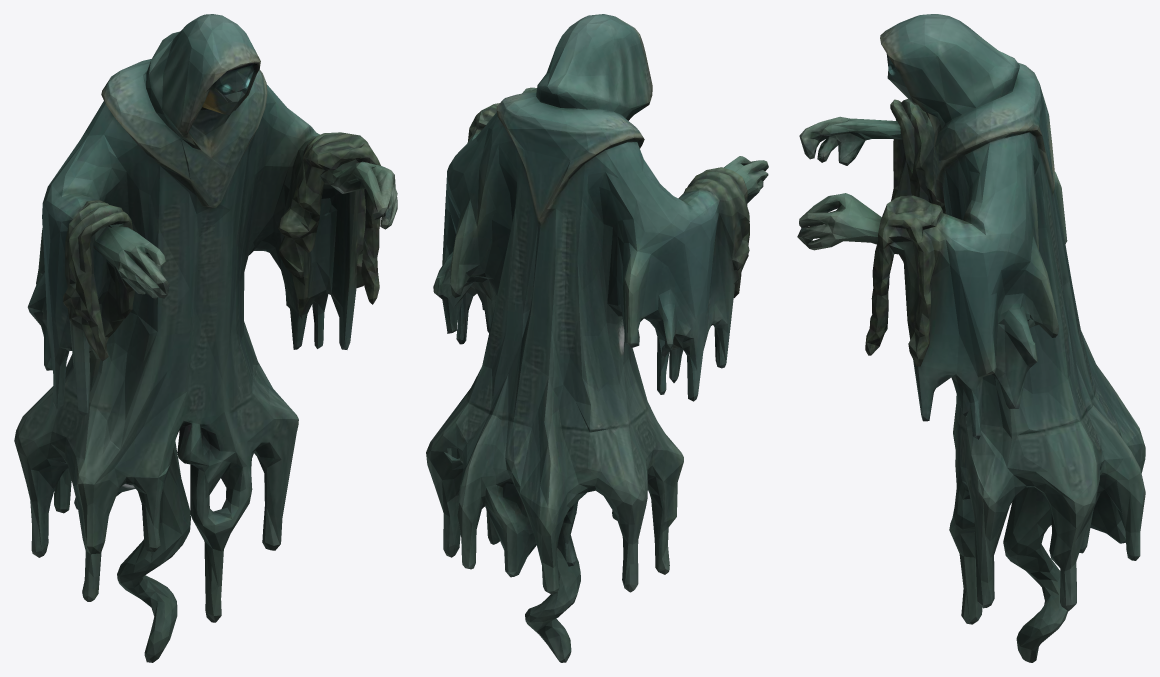
Rendered from dreadShadeAdd.glb.
3 renders of one model, left to right at view 1: azimuth 30°, elevation 25°; view 2: azimuth 150°, elevation 25°; view 3: azimuth 270°, elevation 25°, orthographic. The views are drawn at different scales.
Parts seen in each view (by area): view 1: world; view 2: world; view 3: world.
Part boxes in pixels (<box>): world: <box>14,14,397,662</box>; world: <box>426,14,768,662</box>; world: <box>797,14,1145,662</box>.
Bounding box in the file's own units: 0.4751 × 0.9985 × 0.4837.
1 material, 1 textured.
